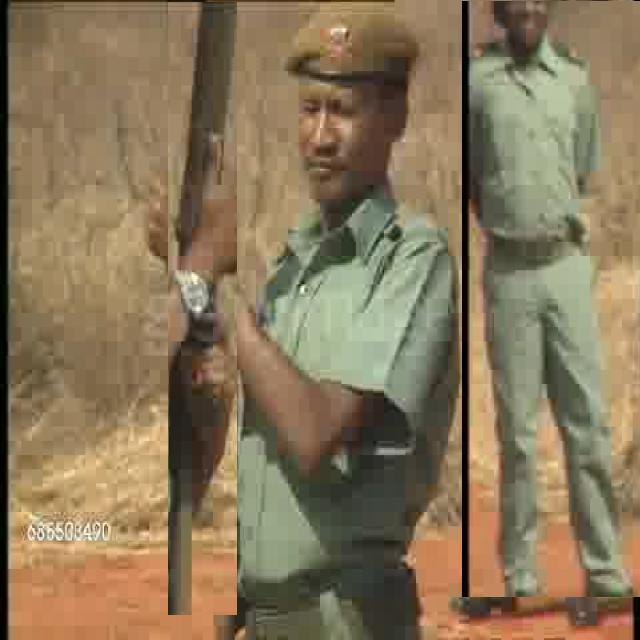poacher: (462, 1, 640, 597), (253, 2, 432, 578)
weapon: (168, 2, 237, 615)
